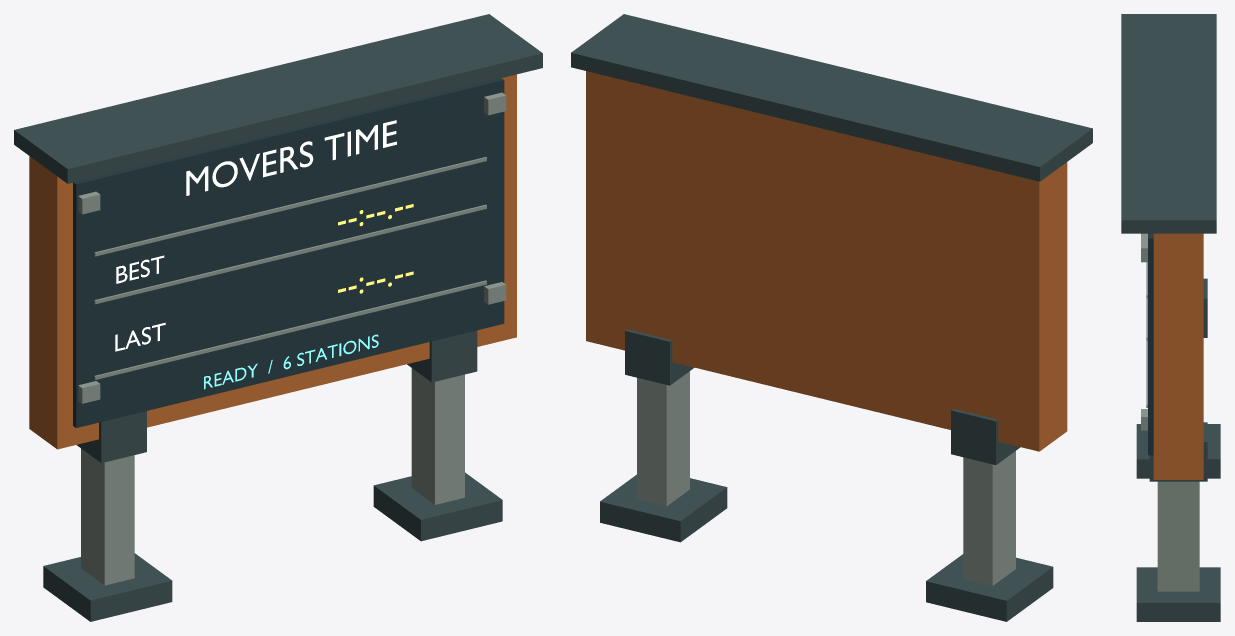
File: w6d-movers-record-board.glb
3 renders of one model, left to right at view 1: azimuth 30°, elevation 25°; view 2: azimuth 150°, elevation 25°; view 3: azimuth 270°, elevation 25°, orthographic. The views are drawn at different scales.
Visible parts, largest first — view 1: Record board · face, Record board · dark solar visor, Record board · housing, Board standard, Board standard.001, Board plinth flange, Board plinth flange.001, Housing leg collar.001, Housing leg collar, World display title, Record row separator, Record row separator.001 (+2 smaller); view 2: Record board · housing, Record board · dark solar visor, Board standard, Board standard.001, Board plinth flange, Board plinth flange.001, Housing leg collar, Housing leg collar.001; view 3: Record board · dark solar visor, Record board · housing, Board standard.001, Board plinth flange.001, Board plinth flange, Record board · face, Housing leg collar.001, Housing leg collar.
Boxes of the visible parts, box(x1,y1,x2,y2) form: Record board · face: box(73, 78, 504, 427); Record board · dark solar visor: box(14, 14, 542, 183); Record board · housing: box(29, 74, 516, 449); Board standard: box(81, 448, 134, 585); Board standard.001: box(411, 368, 464, 504); Board plinth flange: box(43, 553, 172, 621); Board plinth flange.001: box(373, 472, 502, 541); Housing leg collar.001: box(407, 330, 477, 382); Housing leg collar: box(77, 411, 146, 462); World display title: box(186, 120, 396, 195); Record row separator: box(94, 280, 486, 379); Record row separator.001: box(94, 204, 486, 304); Record board · housing: box(586, 71, 1067, 451); Record board · dark solar visor: box(571, 14, 1092, 181); Board standard: box(963, 451, 1015, 585); Board standard.001: box(637, 371, 689, 506); Board plinth flange: box(926, 554, 1053, 621); Board plinth flange.001: box(600, 474, 727, 542); Housing leg collar: box(951, 409, 1020, 464); Housing leg collar.001: box(625, 329, 693, 385); Record board · dark solar visor: box(1121, 14, 1216, 233); Record board · housing: box(1153, 233, 1203, 479); Board standard.001: box(1157, 481, 1199, 591); Board plinth flange.001: box(1136, 567, 1220, 621); Board plinth flange: box(1136, 424, 1220, 478); Record board · face: box(1148, 233, 1153, 455); Housing leg collar.001: box(1149, 422, 1207, 481); Housing leg collar: box(1203, 278, 1207, 337).
Bounding box in the file's own units: 3.02 × 2.84 × 0.615.
